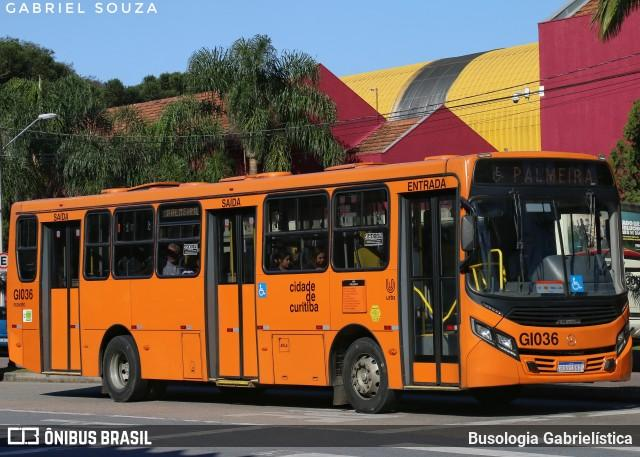PALMEIRA: (507, 161, 599, 191)
